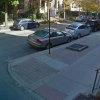Car: (22, 24, 77, 54)
